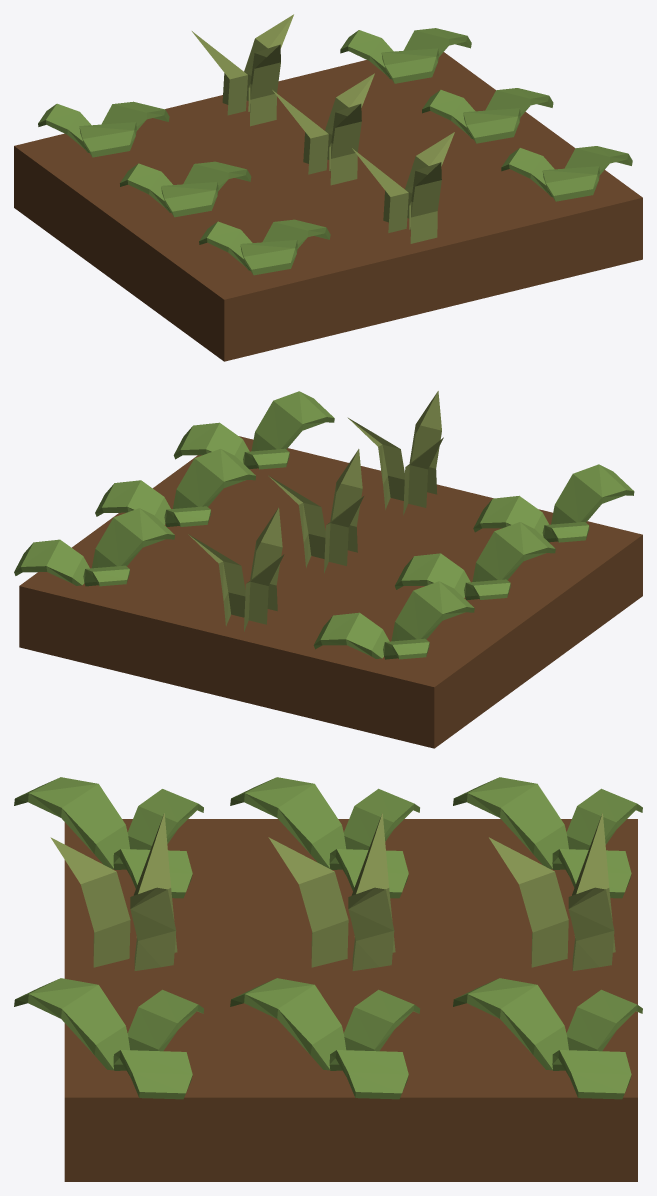
The model's file is sawah.fbx.
3 renders of one model, top to bottom at view 1: azimuth 30°, elevation 25°; view 2: azimuth 150°, elevation 25°; view 3: azimuth 270°, elevation 25°, orthographic. The views are drawn at different scales.
Visible parts, largest first — view 1: Cube.029; view 2: Cube.029; view 3: Cube.029.
Boxes of the visible parts, <box> form: Cube.029: <box>14,14,642,361</box>; Cube.029: <box>14,391,642,748</box>; Cube.029: <box>14,777,642,1181</box>.
Bounding box in the file's own units: 228 × 75.96 × 209.
